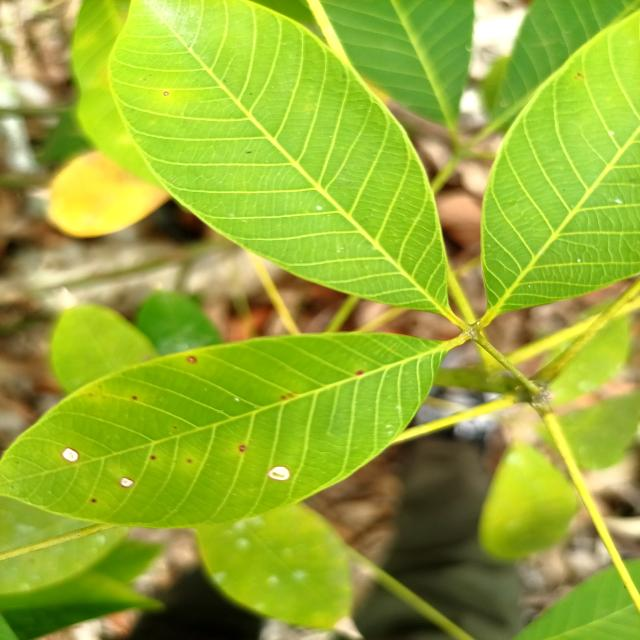Colletotrichum: (268, 466, 292, 481), (61, 446, 80, 463), (119, 477, 135, 488), (187, 356, 197, 363), (238, 444, 246, 452)
